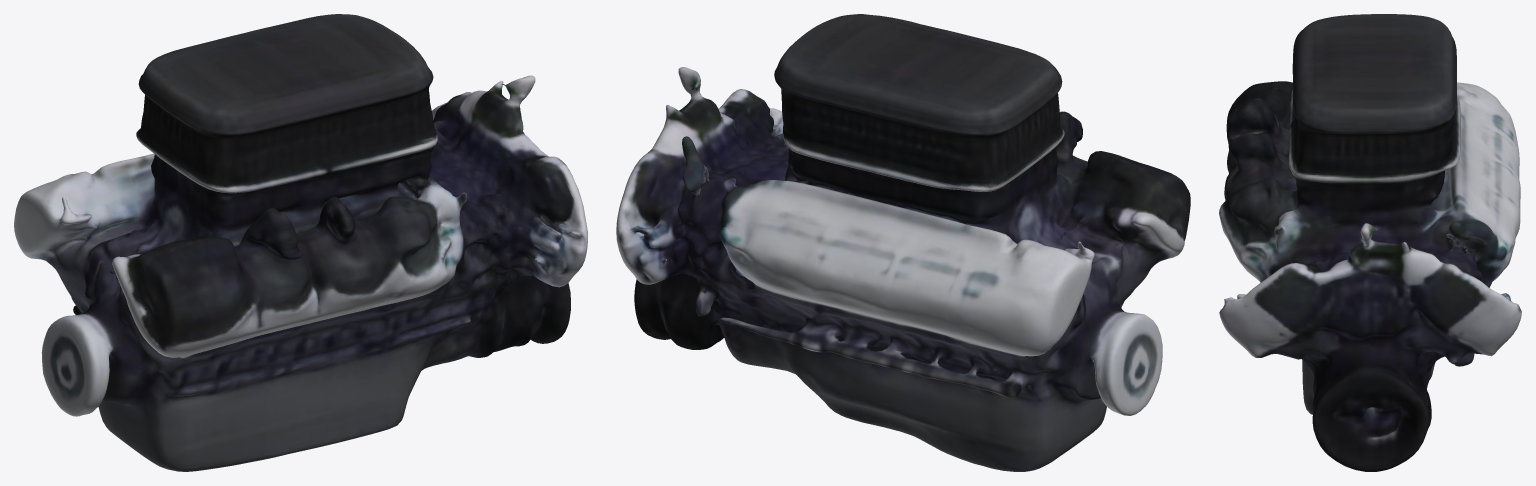
Rendered from 35c405005240_car_engine__3d_asse.fbx.
The picture shows the model from 3 angles, left to right: view 1: azimuth 30°, elevation 25°; view 2: azimuth 150°, elevation 25°; view 3: azimuth 270°, elevation 25°; orthographic projection. The views are drawn at different scales.
Visible parts, largest first — view 1: high_poly; view 2: high_poly; view 3: high_poly.
Part boxes in pixels (left/top/right/bottom): high_poly: left=14, top=14, right=587, bottom=471; high_poly: left=616, top=14, right=1190, bottom=471; high_poly: left=1219, top=14, right=1521, bottom=471.
Bounding box in the file's own units: 100 × 73.06 × 61.25.
